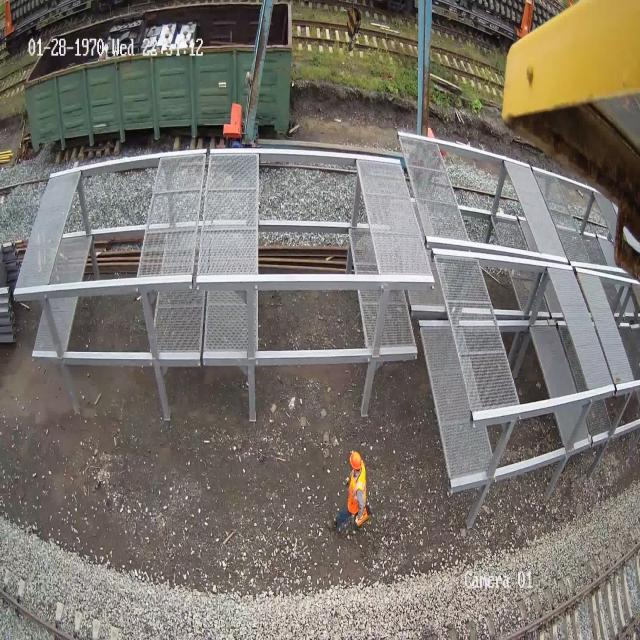Helmet: (349, 450, 362, 470)
Person: (335, 450, 371, 530)
